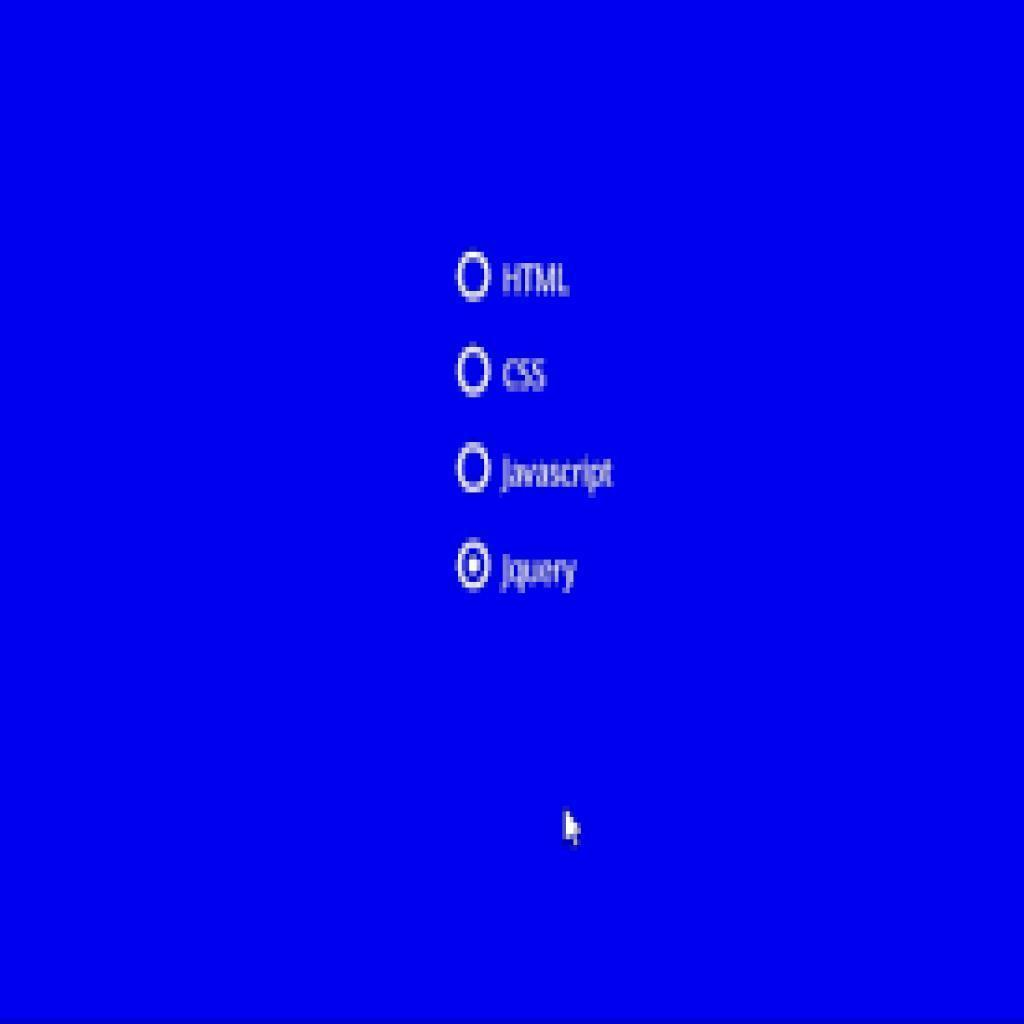radio: (450, 527, 497, 610), (451, 430, 498, 511), (451, 332, 493, 403), (454, 244, 492, 307)
